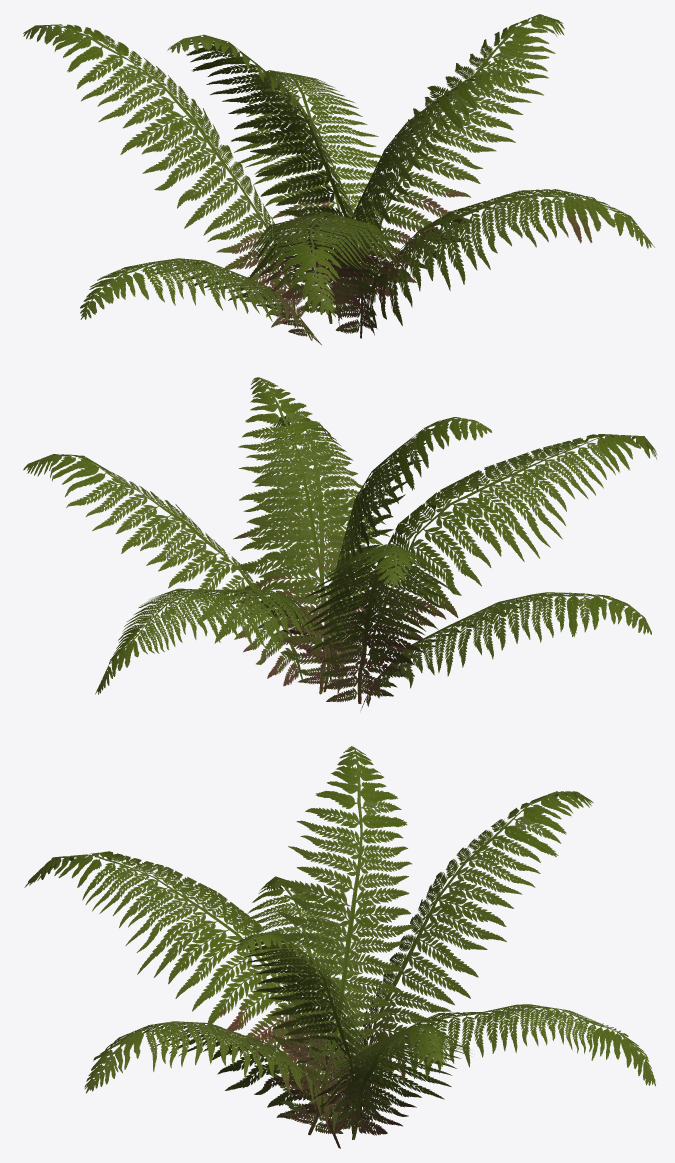
Rendered from MSH_fwOF_Fern_02.fbx.
The picture shows the model from 3 angles, top to bottom: view 1: azimuth 30°, elevation 25°; view 2: azimuth 150°, elevation 25°; view 3: azimuth 270°, elevation 25°; orthographic projection. The views are drawn at different scales.
Visible parts, largest first — view 1: MSH_fwOF_Fern_02; view 2: MSH_fwOF_Fern_02; view 3: MSH_fwOF_Fern_02.
Part boxes in pixels (x1,y1,x2,y2): MSH_fwOF_Fern_02: (23,14,654,344); MSH_fwOF_Fern_02: (23,377,657,710); MSH_fwOF_Fern_02: (24,746,655,1148).
Bounding box in the file's own units: 1.03 × 0.5617 × 1.02.
